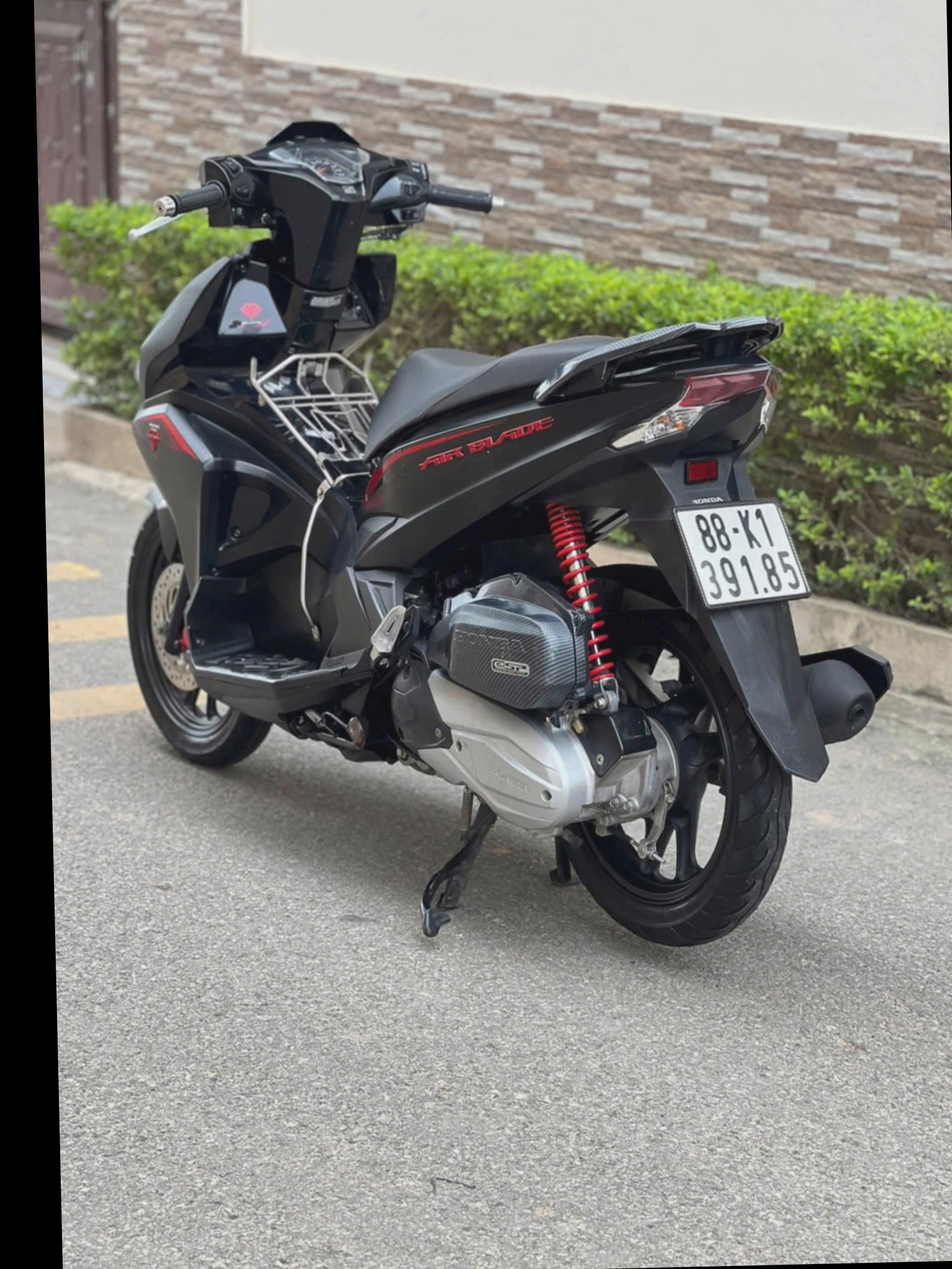Bien-so: (683, 498, 820, 608)
